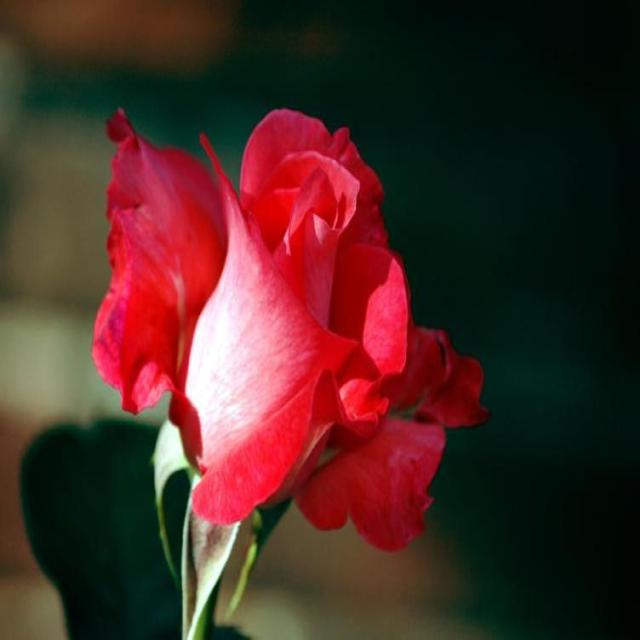rose: (71, 63, 509, 572)
